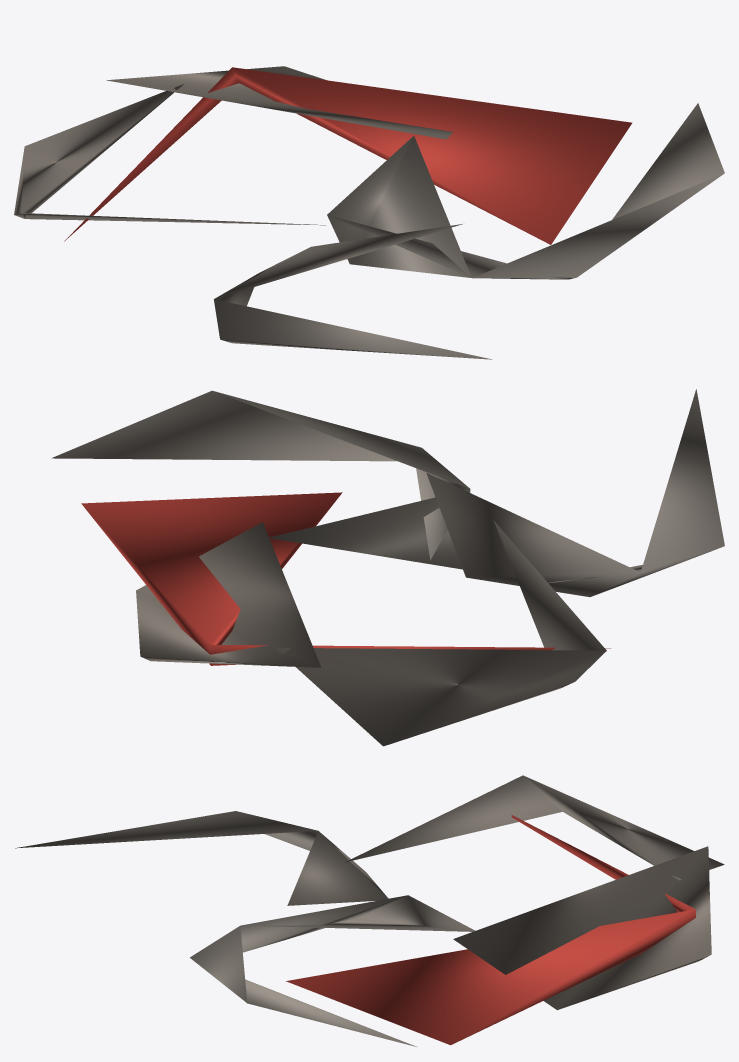
Rendered from den_gc_dust_b_lod2.glb.
3 renders of one model, top to bottom at view 1: azimuth 30°, elevation 25°; view 2: azimuth 150°, elevation 25°; view 3: azimuth 270°, elevation 25°, orthographic. The views are drawn at different scales.
Parts seen in each view (by area): view 1: den_gc_dust_b.001; view 2: den_gc_dust_b.001; view 3: den_gc_dust_b.001.
Part boxes in pixels (box(x1,y1,x2,y2)): den_gc_dust_b.001: box(14, 66, 724, 359); den_gc_dust_b.001: box(51, 389, 724, 746); den_gc_dust_b.001: box(15, 775, 724, 1047).
Size of the model in its own units: 2.15 by 0.1979 by 2.36.
